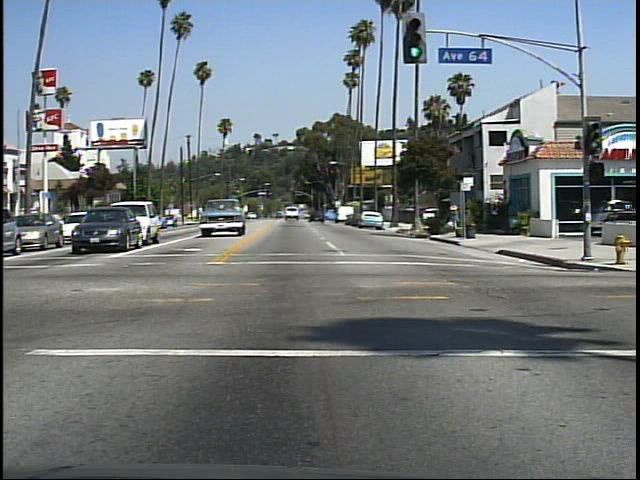person: (444, 198, 466, 240)
